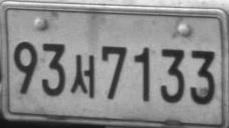1: (130, 46, 157, 101)
3: (188, 49, 215, 105), (159, 48, 185, 103), (40, 43, 66, 97)
7: (100, 45, 127, 100)
9: (13, 41, 38, 95)
서: (70, 54, 95, 99)
